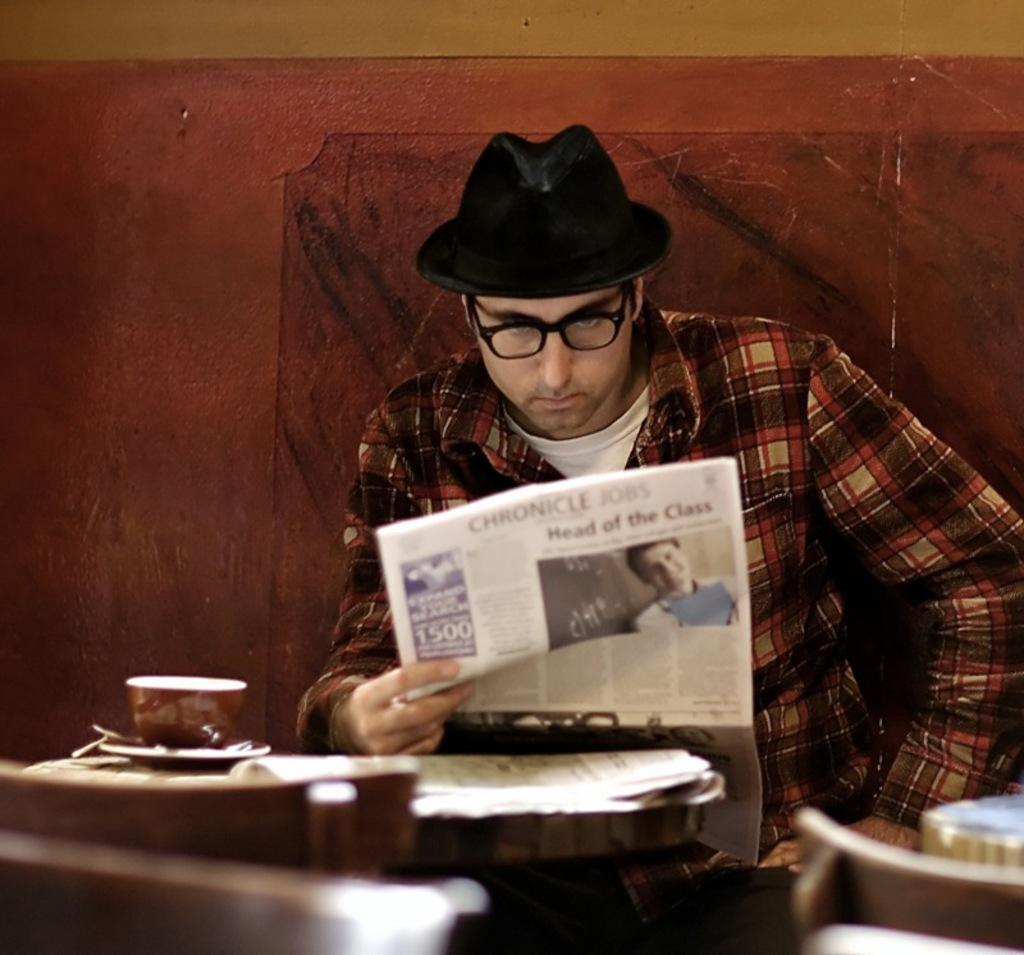Hat: (415, 122, 675, 300)
